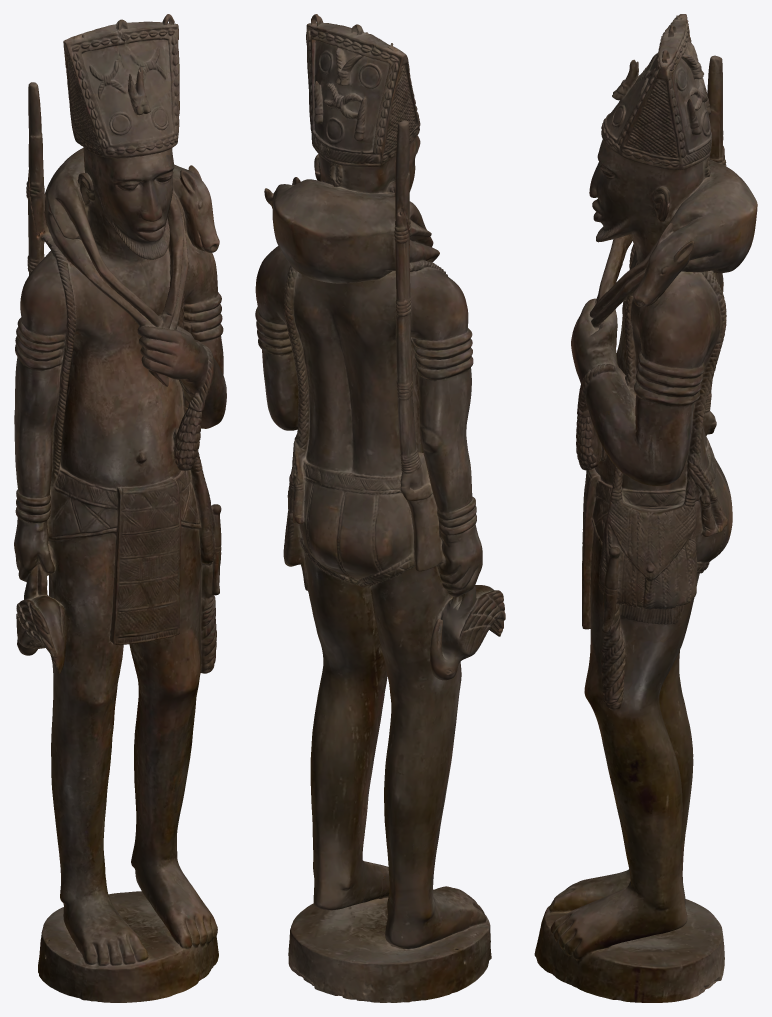
Rendered from preview.glb.
3 views of the same model, side by side, from view 1: azimuth 30°, elevation 25°; view 2: azimuth 150°, elevation 25°; view 3: azimuth 270°, elevation 25° (orthographic). The views are drawn at different scales.
Parts seen in each view (by area): view 1: Object_2; view 2: Object_2; view 3: Object_2.
Boxes of the visible parts, <box> form: Object_2: <box>14,14,226,1002</box>; Object_2: <box>255,14,505,1002</box>; Object_2: <box>534,14,757,1002</box>.
Size of the model in its own units: 0.5709 by 2.45 by 0.5223.
Materials: 1 (1 with a texture image).
